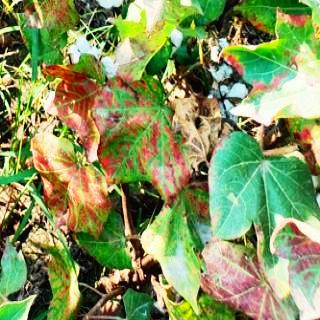blight: (86, 67, 205, 207), (210, 4, 320, 128)
leaf spot: (194, 236, 320, 320)
